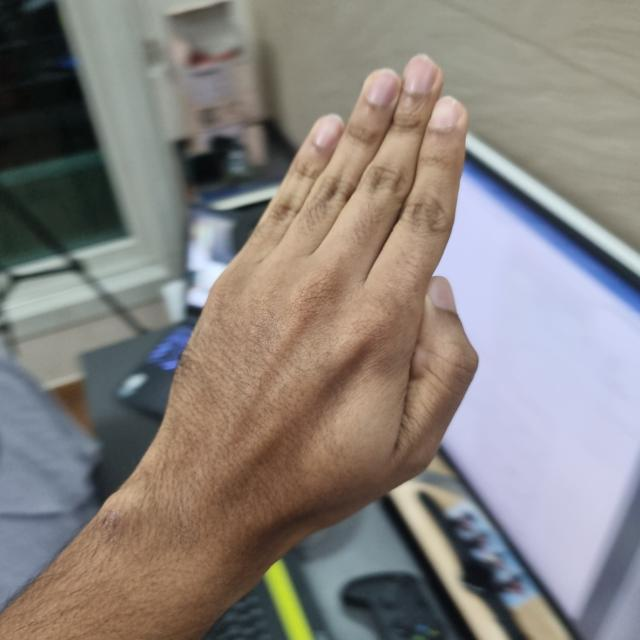Paper: (161, 59, 480, 545)
